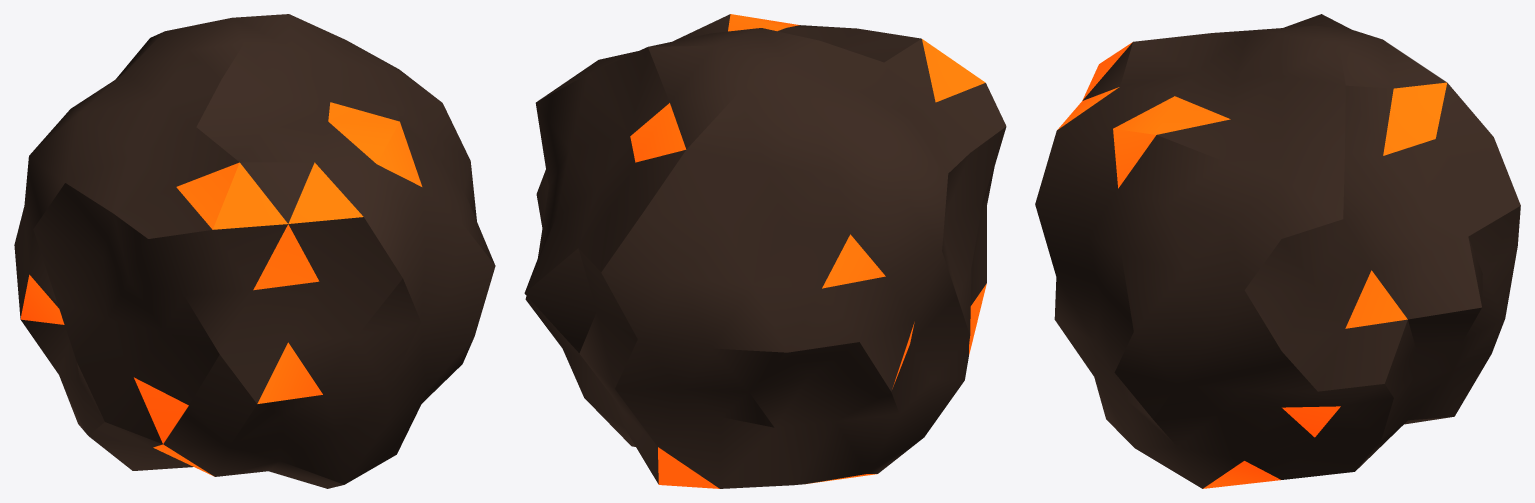
The model's file is meteor.glb.
3 renders of one model, left to right at view 1: azimuth 30°, elevation 25°; view 2: azimuth 150°, elevation 25°; view 3: azimuth 270°, elevation 25°, orthographic. The views are drawn at different scales.
Visible parts, largest first — view 1: Meteor; view 2: Meteor; view 3: Meteor.
Boxes of the visible parts, x1,y1,x2,y2 form: Meteor: [14, 14, 495, 488]; Meteor: [524, 14, 1006, 488]; Meteor: [1035, 14, 1520, 488].
Bounding box in the file's own units: 1.69 × 1.64 × 1.75.
